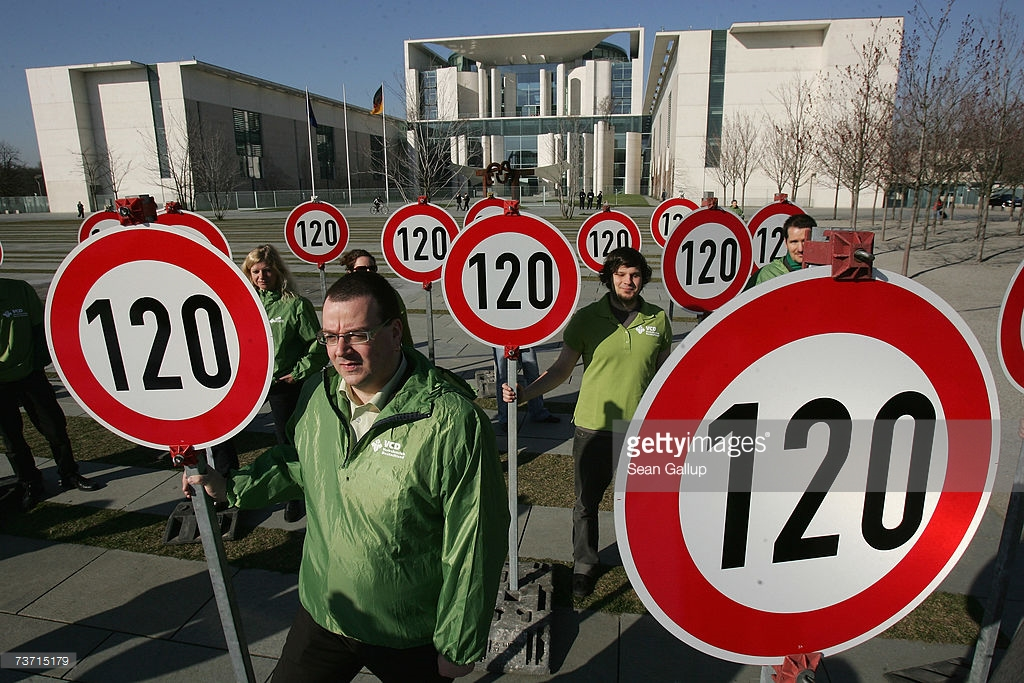Speed_limit_120km: (611, 263, 999, 668), (41, 227, 274, 457), (439, 210, 585, 350), (661, 207, 752, 316), (381, 202, 461, 285), (282, 198, 350, 267)
